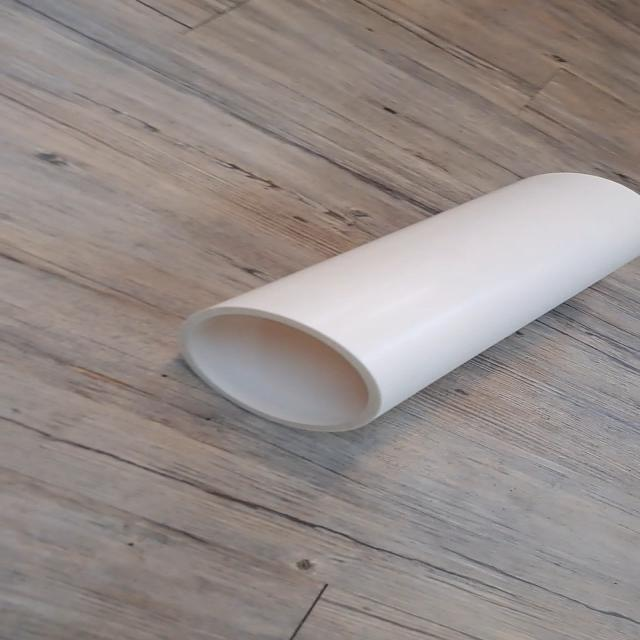CORAL: (172, 145, 640, 436)
